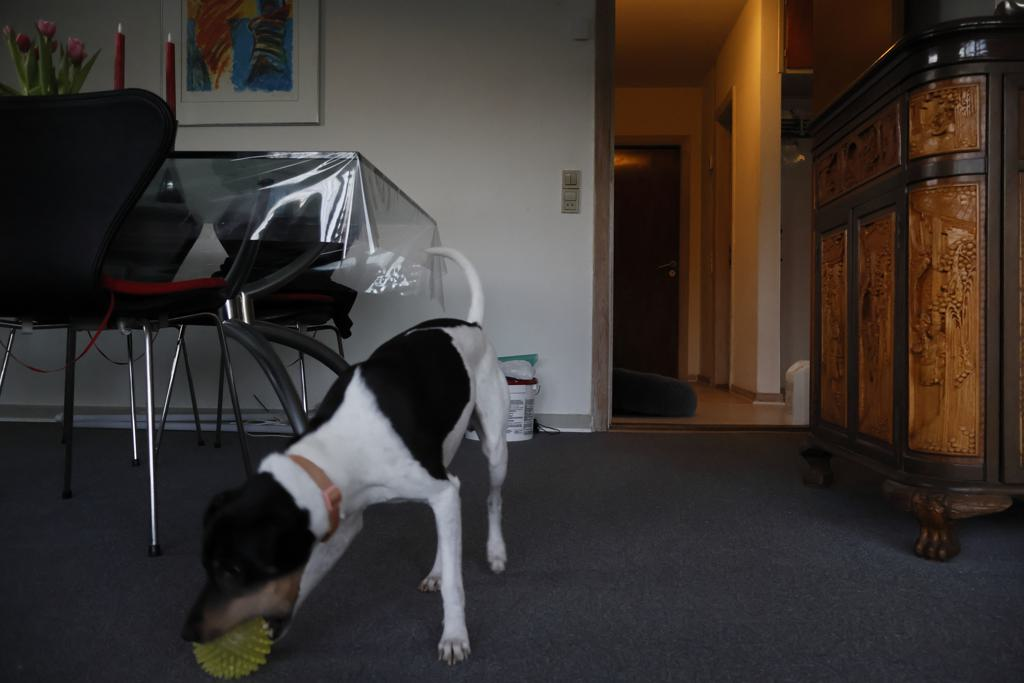Dog: (172, 232, 537, 677)
